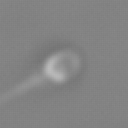normal: (1, 71, 46, 110)
